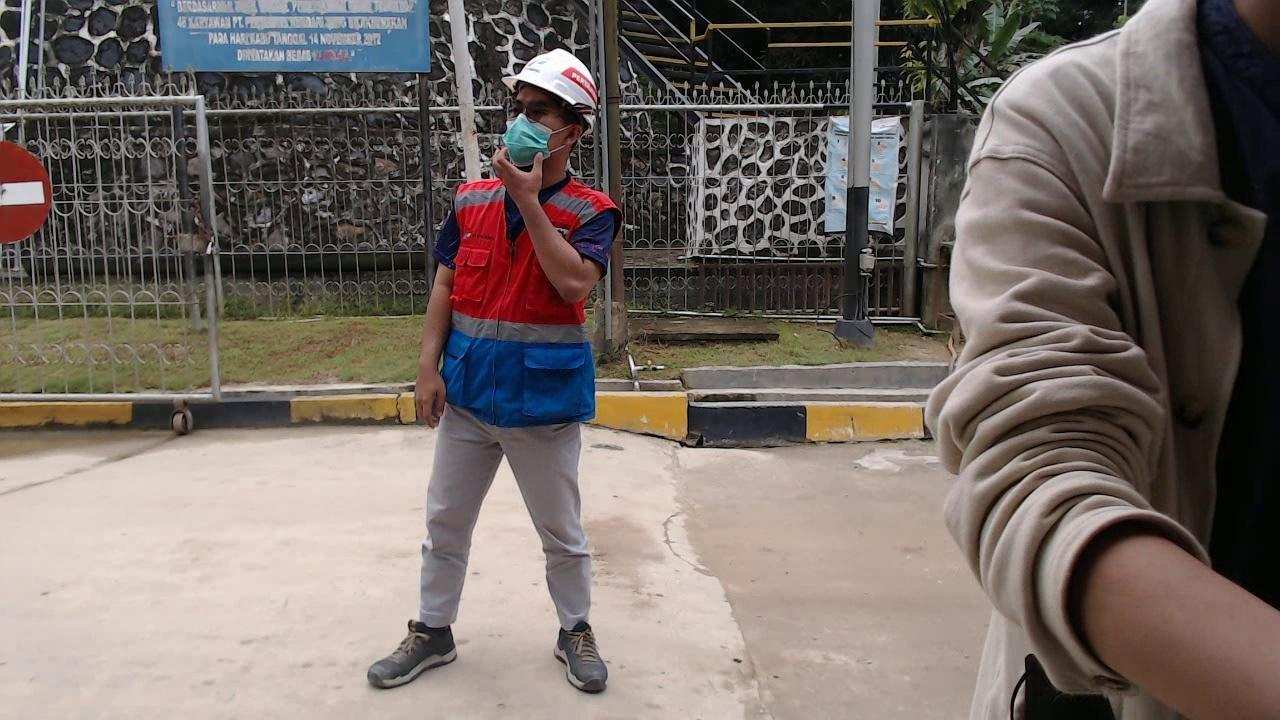helmet: (510, 44, 601, 125)
